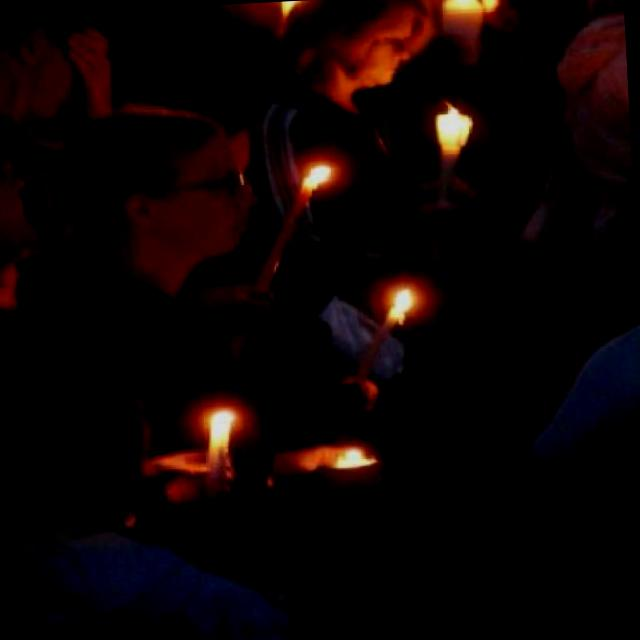Person: (11, 85, 378, 460), (235, 0, 486, 400), (6, 391, 297, 640), (0, 10, 126, 313), (529, 329, 640, 626), (552, 11, 634, 214)
